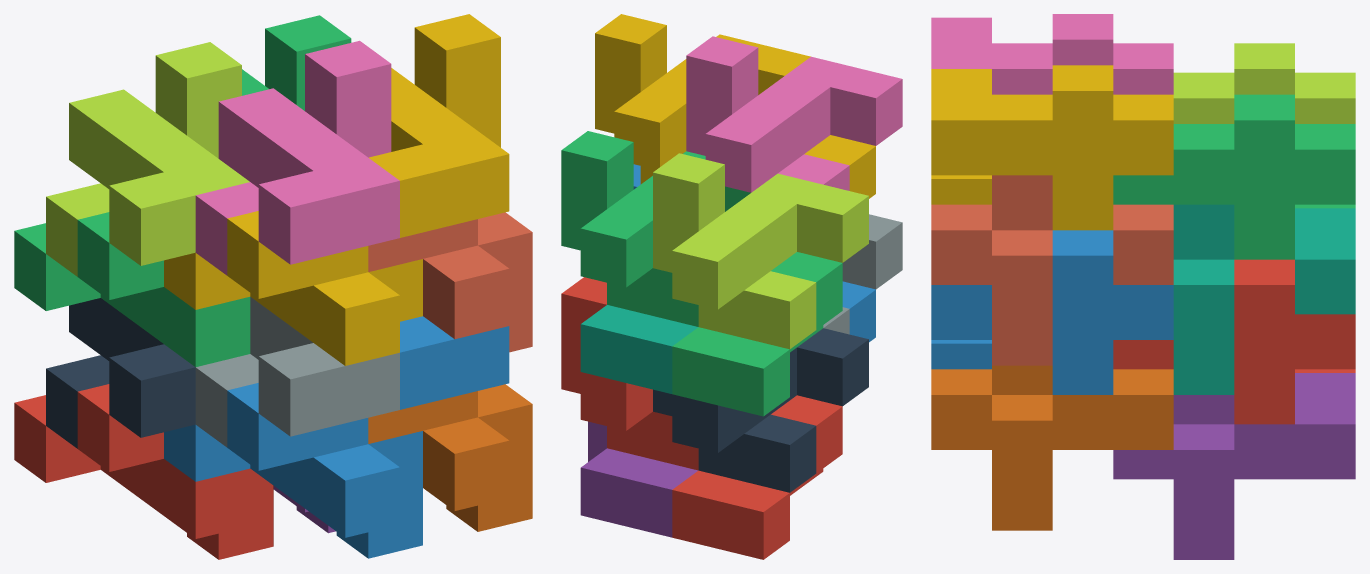
File: tiling.obj
3 renders of one model, left to right at view 1: azimuth 30°, elevation 25°; view 2: azimuth 150°, elevation 25°; view 3: azimuth 270°, elevation 25°, orthographic. The views are drawn at different scales.
Visible parts, largest first — view 1: copy_2_domain_4, copy_2_domain_3, copy_2_domain_8, copy_1_domain_2, copy_1_domain_4, copy_1_domain_1, copy_2_domain_2, copy_1_domain_6, copy_1_domain_3, copy_1_domain_8, copy_2_domain_1, copy_2_domain_6 (+1 smaller); view 2: copy_2_domain_3, copy_2_domain_4, copy_2_domain_7, copy_2_domain_1, copy_2_domain_8, copy_1_domain_1, copy_1_domain_3, copy_2_domain_5, copy_1_domain_5, copy_1_domain_7, copy_2_domain_2, copy_1_domain_4 (+1 smaller); view 3: copy_2_domain_8, copy_1_domain_6, copy_1_domain_5, copy_2_domain_7, copy_1_domain_8, copy_1_domain_7, copy_2_domain_6, copy_2_domain_5, copy_2_domain_4, copy_2_domain_3, copy_1_domain_2, copy_1_domain_4.
Part boxes in pixels (x1=…): copy_2_domain_4: x1=195, y1=40, x2=399, y2=275; copy_2_domain_3: x1=46, y1=42, x2=249, y2=276; copy_2_domain_8: x1=369, y1=14, x2=509, y2=237; copy_1_domain_2: x1=164, y1=383, x2=422, y2=558; copy_1_domain_4: x1=164, y1=211, x2=422, y2=365; copy_1_domain_1: x1=14, y1=384, x2=273, y2=559; copy_2_domain_2: x1=195, y1=297, x2=399, y2=447; copy_1_domain_6: x1=368, y1=384, x2=532, y2=531; copy_1_domain_3: x1=14, y1=212, x2=250, y2=367; copy_1_domain_8: x1=368, y1=212, x2=532, y2=352; copy_2_domain_1: x1=46, y1=298, x2=195, y2=448; copy_2_domain_6: x1=400, y1=316, x2=509, y2=409; copy_2_domain_3: x1=653, y1=153, x2=868, y2=349; copy_2_domain_4: x1=686, y1=36, x2=902, y2=192; copy_2_domain_7: x1=561, y1=131, x2=750, y2=326; copy_2_domain_1: x1=653, y1=328, x2=868, y2=492; copy_2_domain_8: x1=595, y1=14, x2=810, y2=184; copy_1_domain_1: x1=672, y1=395, x2=842, y2=559; copy_1_domain_3: x1=672, y1=252, x2=842, y2=416; copy_2_domain_5: x1=561, y1=277, x2=698, y2=470; copy_1_domain_5: x1=580, y1=421, x2=698, y2=537; copy_1_domain_7: x1=580, y1=305, x2=697, y2=393; copy_2_domain_2: x1=823, y1=214, x2=902, y2=334; copy_1_domain_4: x1=804, y1=135, x2=875, y2=198; copy_2_domain_8: x1=931, y1=65, x2=1173, y2=230; copy_1_domain_6: x1=931, y1=365, x2=1173, y2=530; copy_1_domain_5: x1=1113, y1=373, x2=1355, y2=559; copy_2_domain_7: x1=1113, y1=94, x2=1355, y2=259; copy_1_domain_8: x1=931, y1=175, x2=1173, y2=365; copy_1_domain_7: x1=1173, y1=204, x2=1355, y2=394; copy_2_domain_6: x1=931, y1=230, x2=1173, y2=394; copy_2_domain_5: x1=1113, y1=259, x2=1355, y2=424; copy_2_domain_4: x1=931, y1=14, x2=1173, y2=94; copy_2_domain_3: x1=1173, y1=43, x2=1355, y2=123; copy_1_domain_2: x1=931, y1=340, x2=991, y2=369; copy_1_domain_4: x1=931, y1=175, x2=991, y2=204.
Size of the model in its own units: 6 by 9 by 7.
